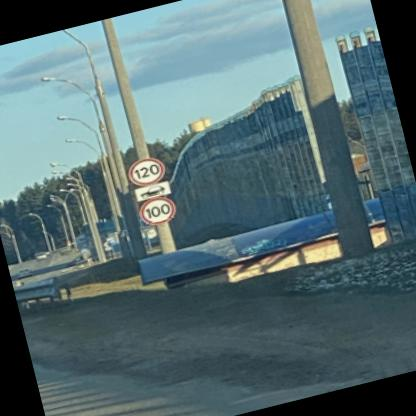speedlimit: (124, 152, 166, 188), (134, 194, 175, 228)
